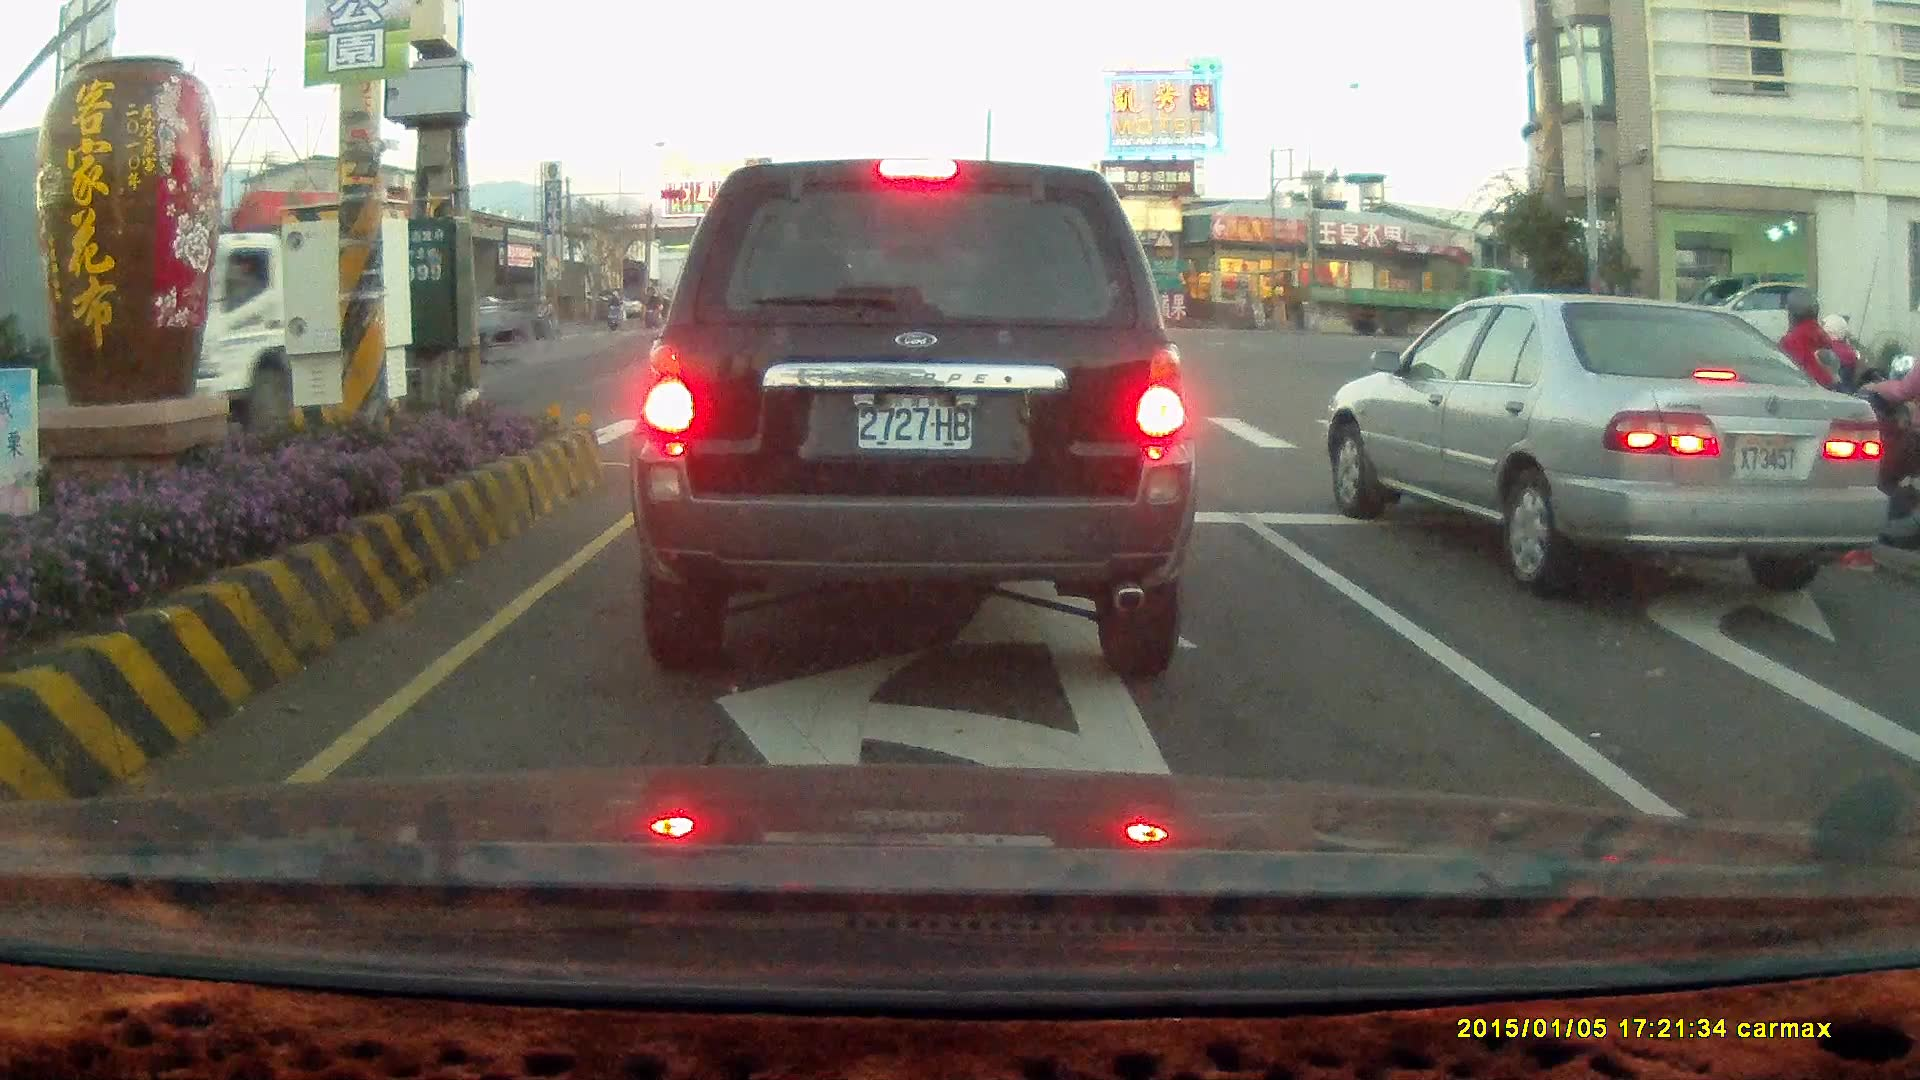rider: (1720, 287, 1860, 543), (1806, 343, 1920, 574), (529, 289, 562, 339), (603, 290, 624, 331), (646, 292, 667, 329)
vehicle: (628, 155, 1197, 681), (1323, 291, 1890, 601), (1339, 295, 1885, 582), (78, 225, 537, 425), (1656, 276, 1860, 372), (1668, 275, 1823, 373), (1324, 265, 1523, 340), (1896, 493, 1920, 836)
